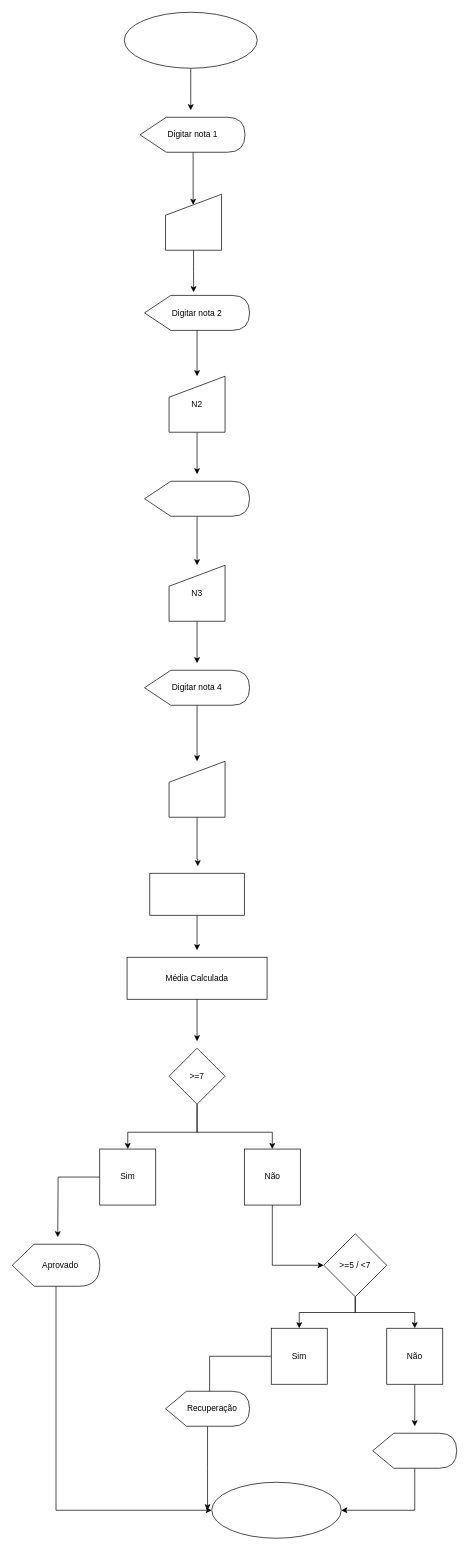
Some shapes in this 469 by 1551 pixel diagram are drawn without their labels. The centre of each missing label's shape, as x and y in pixels:
"Digitar nota 3" belongs at [197,498].
"Fim" belongs at [276,1510].
"Inicio" belongs at [190,40].
"Média (N1 +N2 +N3 +N4+)" belongs at [196,894].
"N1" belongs at [193,222].
"N4" belongs at [196,789].
"Reprovado" belongs at [414,1450].
